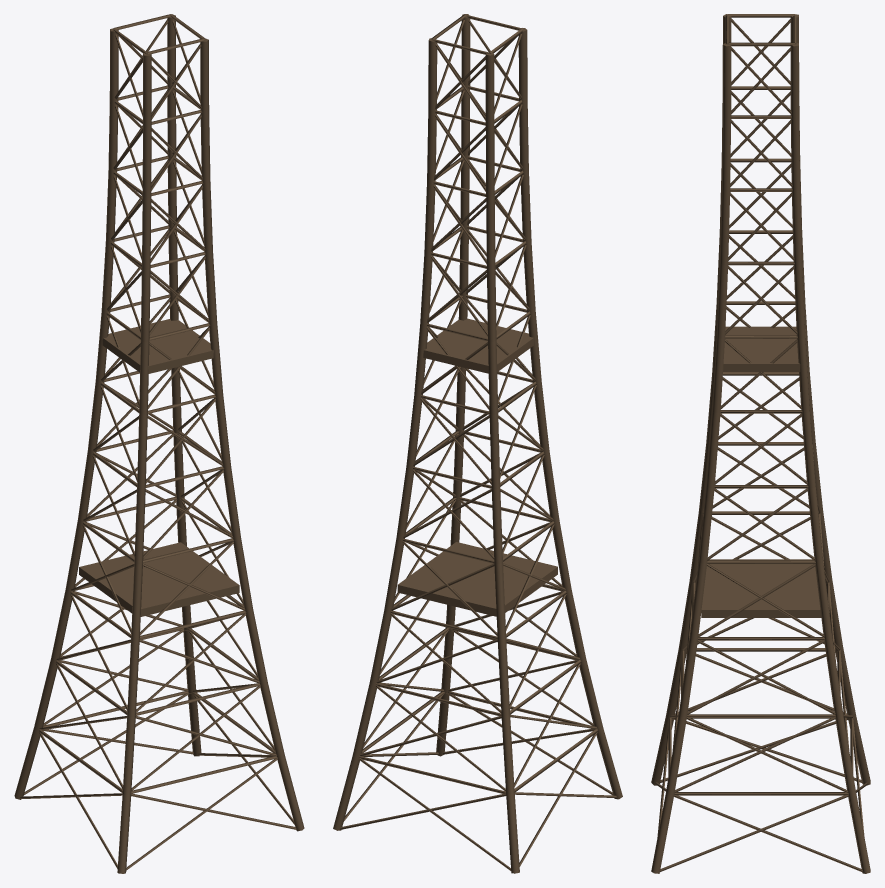
File: EIFFEL_UPPER.glb
The picture shows the model from 3 angles, left to right: view 1: azimuth 30°, elevation 25°; view 2: azimuth 150°, elevation 25°; view 3: azimuth 270°, elevation 25°; orthographic projection. The views are drawn at different scales.
Visible parts, largest first — view 1: paint_0; view 2: paint_0; view 3: paint_0.
Boxes of the visible parts, <box> form: paint_0: <box>14,14,304,873</box>; paint_0: <box>333,14,622,873</box>; paint_0: <box>651,14,870,873</box>.
Bounding box in the file's own units: 7.5 × 30.12 × 7.49.
